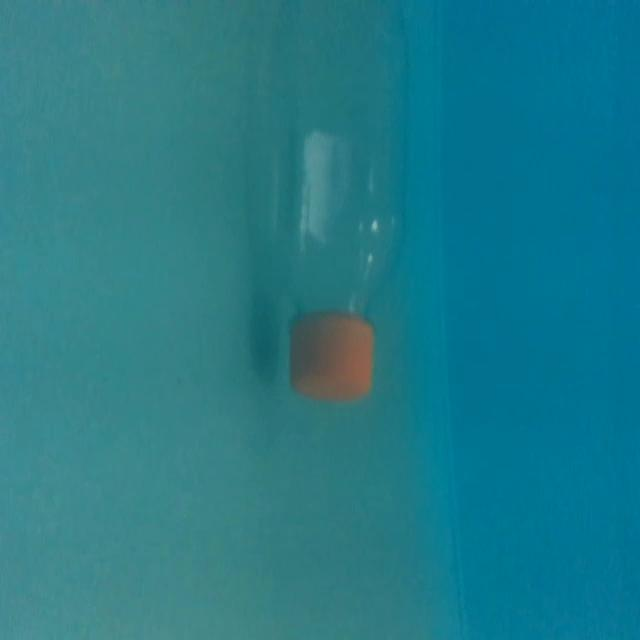plastic bottle: (252, 10, 428, 413)
